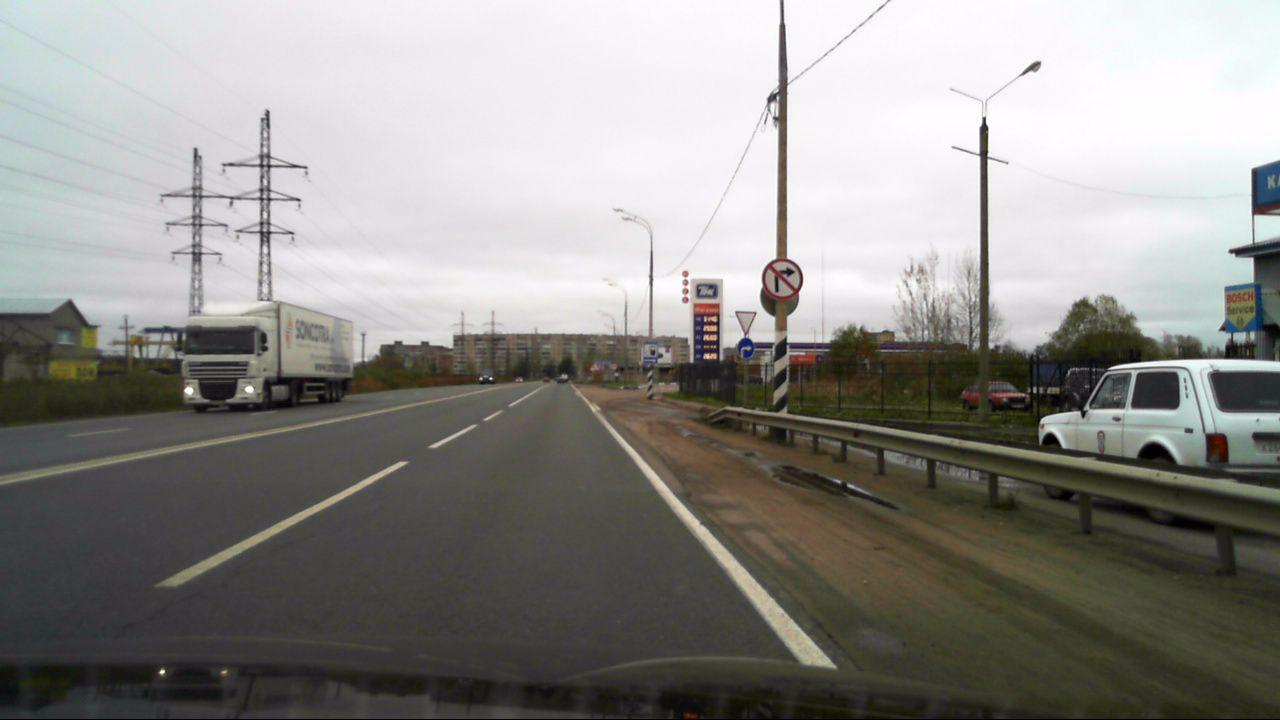road_sign: (761, 259, 803, 301), (733, 311, 758, 336), (737, 337, 755, 360)
